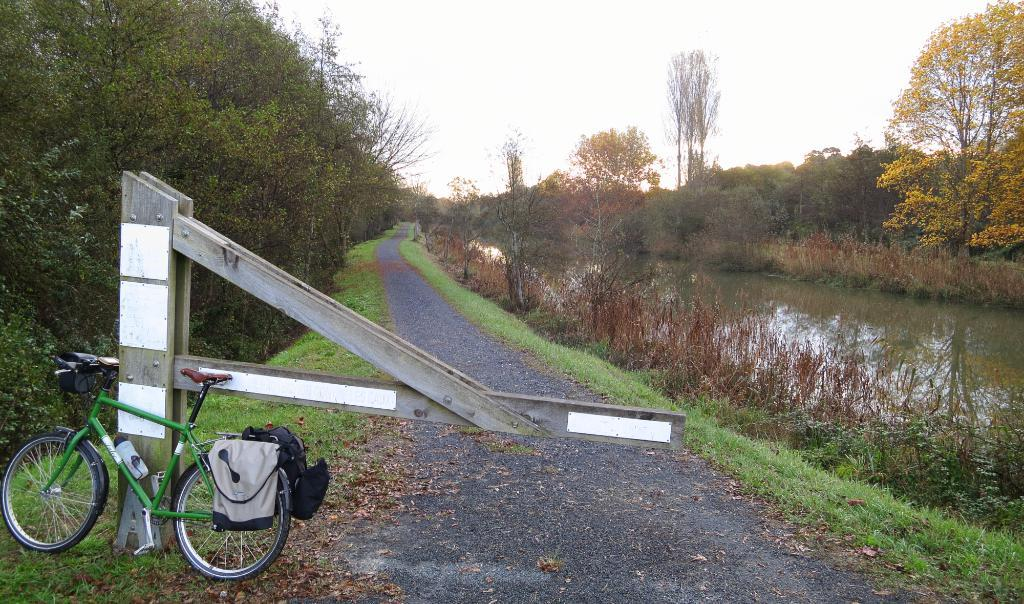Luggage-and-bags: (236, 425, 329, 523), (205, 439, 269, 532)
